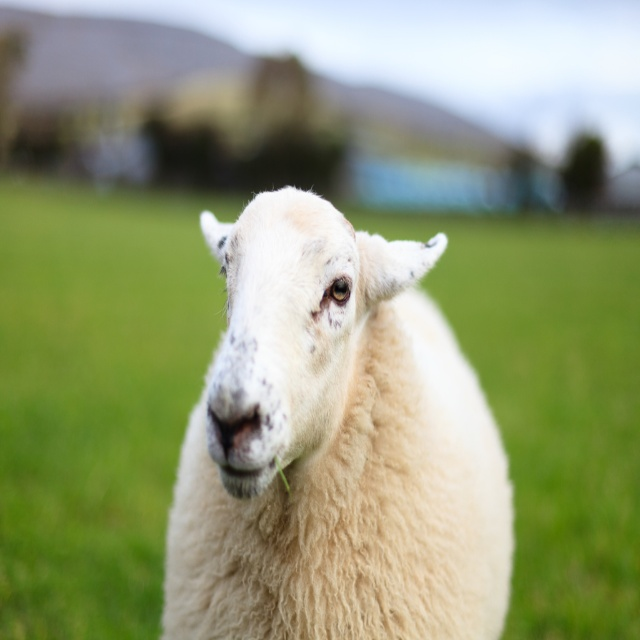Sheep: (160, 182, 516, 640)
